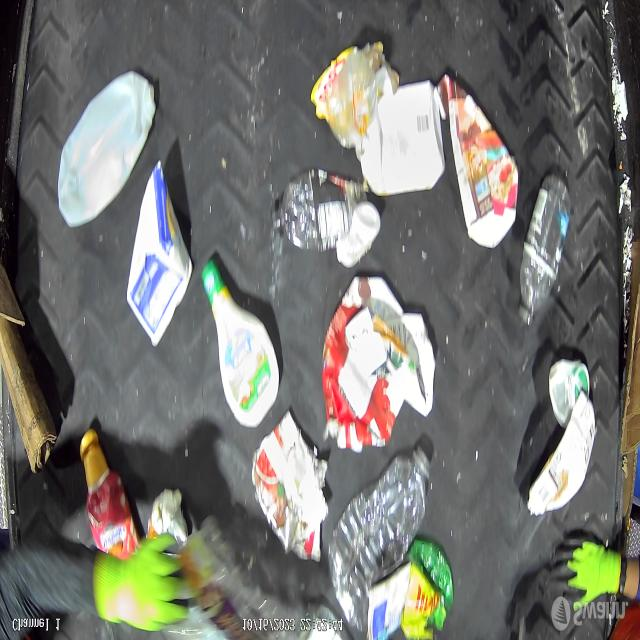can: (548, 355, 592, 428)
milk_jug: (55, 66, 158, 230)
non_white_jug: (434, 73, 520, 250), (206, 260, 279, 427), (528, 392, 596, 515)
plastic_bottle: (327, 448, 432, 631), (518, 171, 571, 326), (274, 170, 364, 249)
